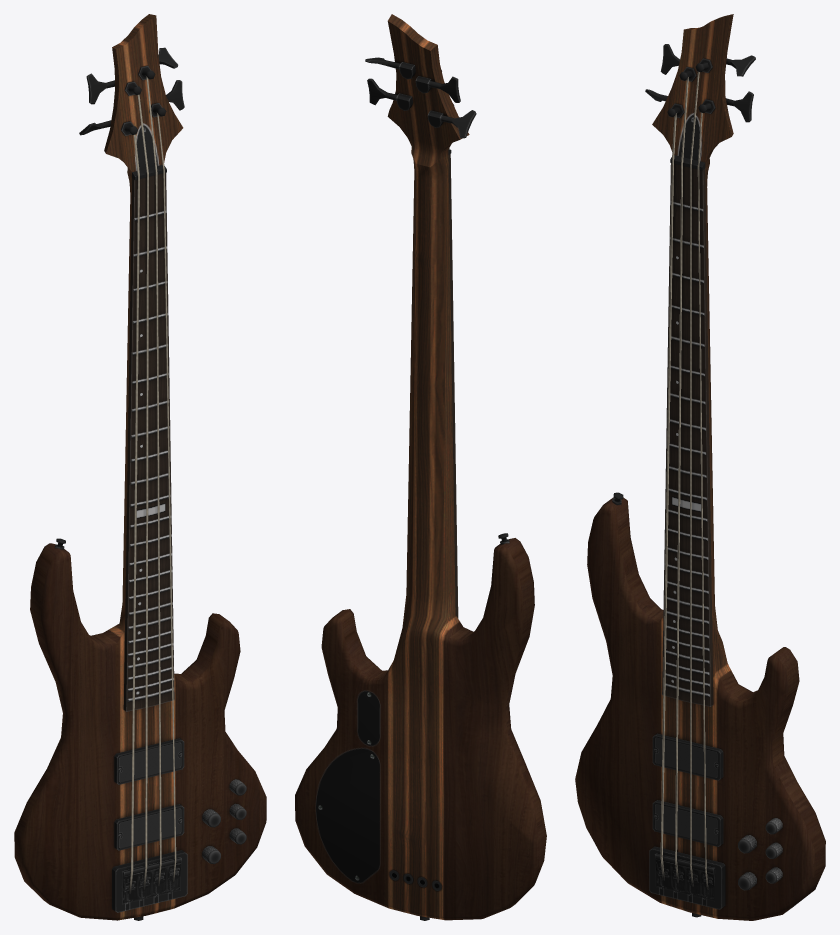
Rendered from BassGuitar.FBX.
3 views of the same model, side by side, from view 1: azimuth 30°, elevation 25°; view 2: azimuth 150°, elevation 25°; view 3: azimuth 330°, elevation 25° (orthographic).
Parts seen in each view (by area): view 1: BassGuitar; view 2: BassGuitar; view 3: BassGuitar.
Boxes of the visible parts, x1,y1,x2,y2 form: BassGuitar: (14, 14, 266, 920); BassGuitar: (295, 14, 546, 920); BassGuitar: (575, 14, 825, 920).
Bounding box in the file's own units: 31.3 × 111 × 7.22.
